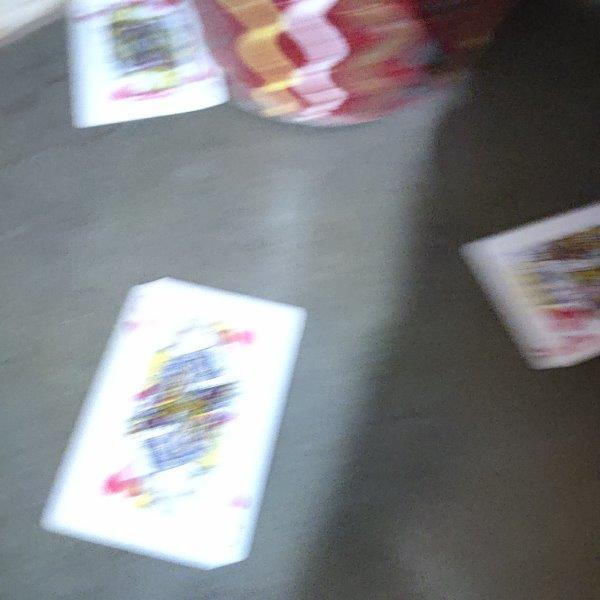Jack of Diamonds: (67, 1, 227, 129)
King of Hearts: (458, 203, 600, 370)
Queen of Hearts: (39, 279, 303, 570)
